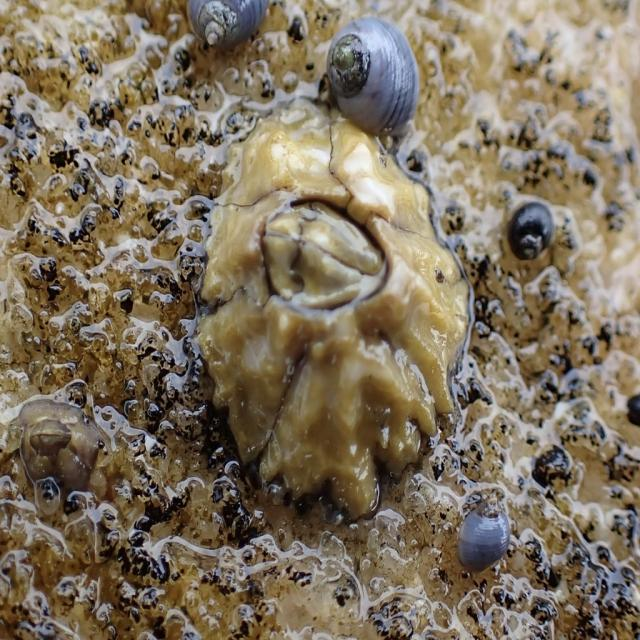barnacles: (196, 88, 470, 530)
